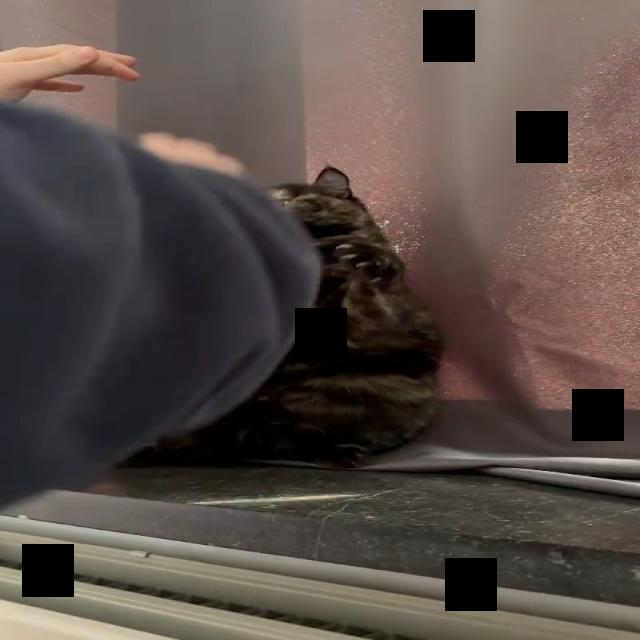authorized: (125, 164, 444, 469)
